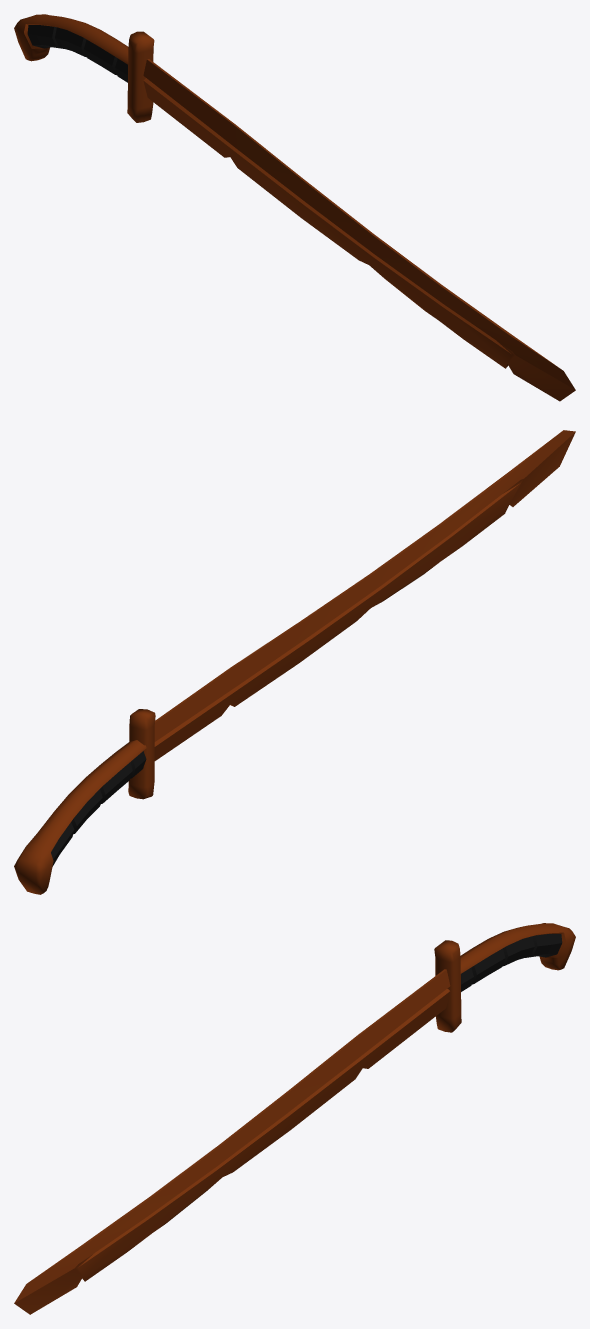
Rendered from Mesh_Sabre_Rusty.FBX.
3 views of the same model, one above another, from view 1: azimuth 30°, elevation 25°; view 2: azimuth 150°, elevation 25°; view 3: azimuth 330°, elevation 25° (orthographic).
Visible parts, largest first — view 1: RustySword; view 2: RustySword; view 3: RustySword.
Boxes of the visible parts, left/top/right/bottom form: RustySword: left=14, top=14, right=575, bottom=401; RustySword: left=14, top=430, right=575, bottom=894; RustySword: left=14, top=923, right=575, bottom=1314.
Size of the model in its own units: 0.6611 by 2.2 by 21.27.
